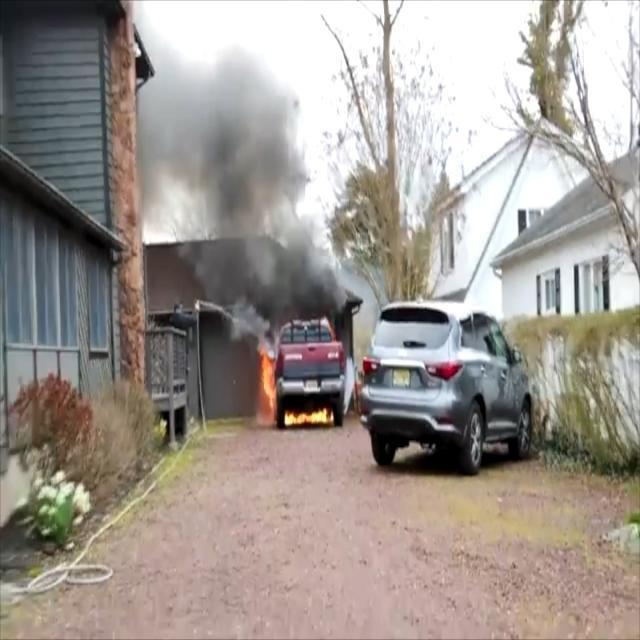fire: (252, 334, 278, 434), (278, 406, 343, 431)
